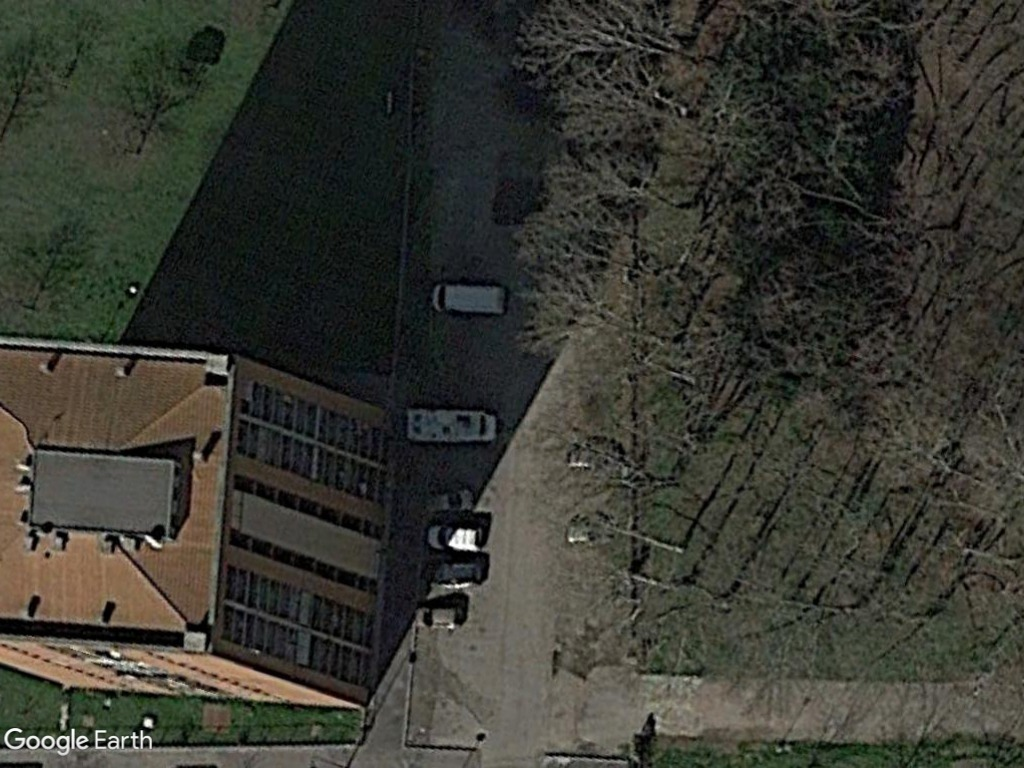car: (421, 521, 492, 553), (411, 602, 471, 630)
truck: (402, 404, 504, 448)
van: (430, 280, 512, 318)
